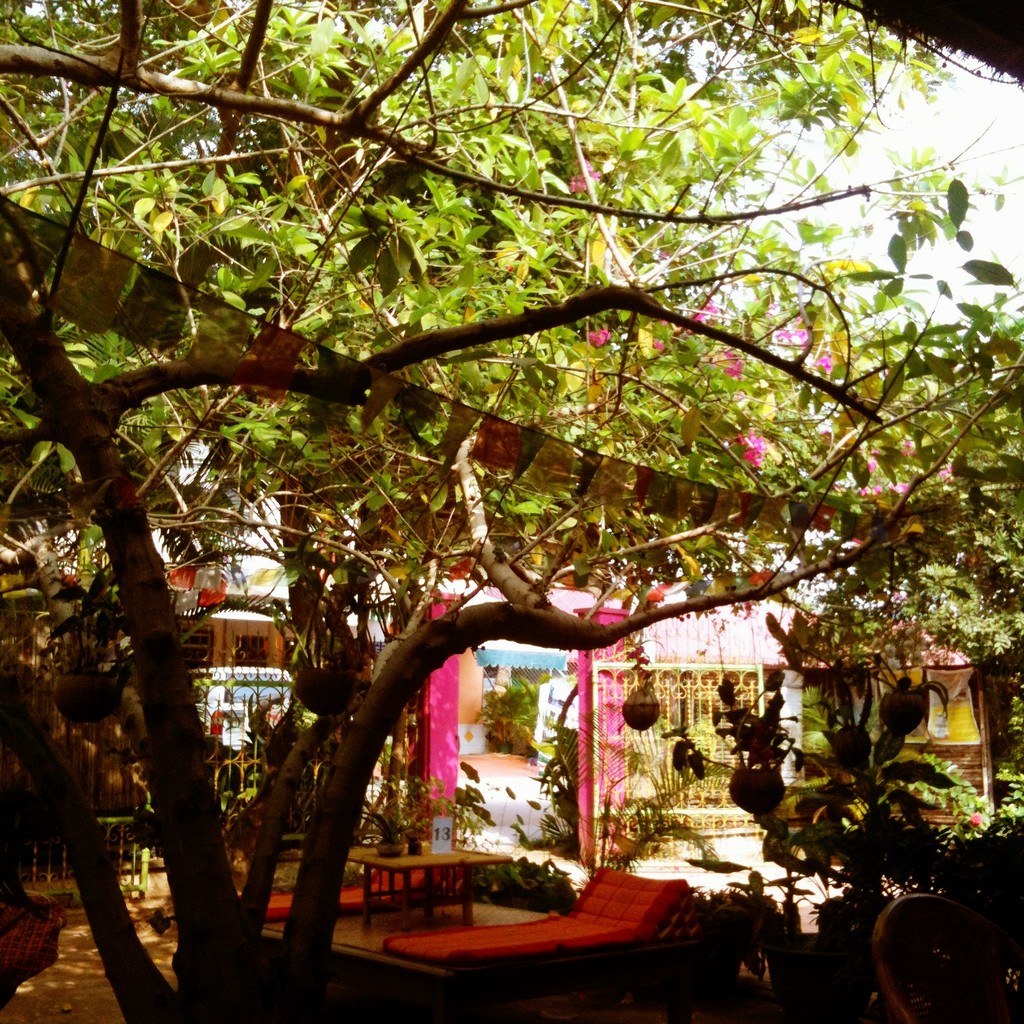Tree: (3, 0, 1023, 1020)
